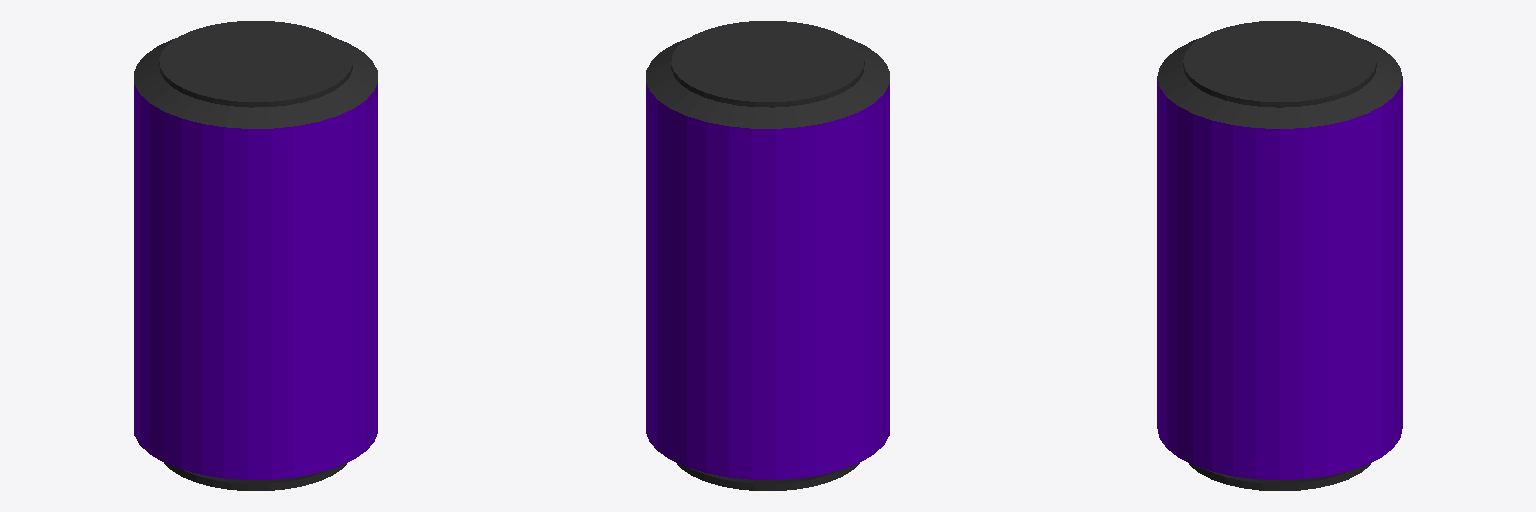
Rendered from can.obj.
3 views of the same model, side by side, from view 1: azimuth 30°, elevation 25°; view 2: azimuth 150°, elevation 25°; view 3: azimuth 270°, elevation 25° (orthographic).
Visible parts, largest first — view 1: Cylinder; view 2: Cylinder; view 3: Cylinder.
Boxes of the visible parts, <box> form: Cylinder: <box>134,21,377,490</box>; Cylinder: <box>646,21,889,490</box>; Cylinder: <box>1157,21,1402,490</box>.
Bounding box in the file's own units: 2.53 × 4.43 × 2.53.